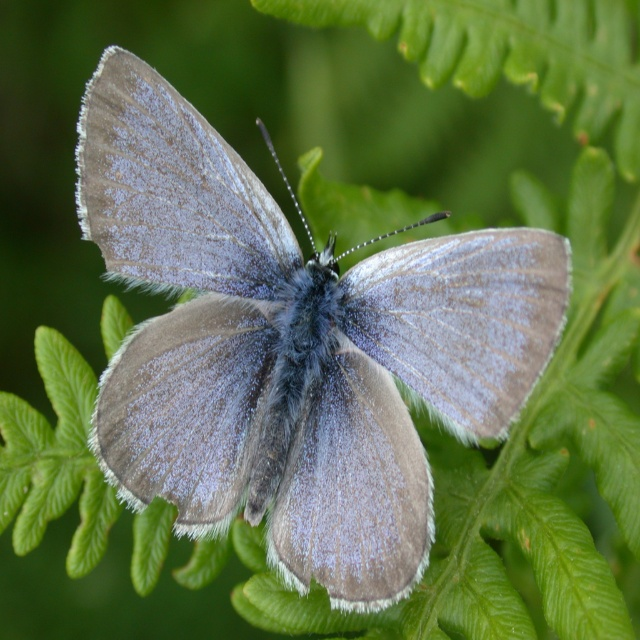Butterfly: (74, 45, 574, 613)
